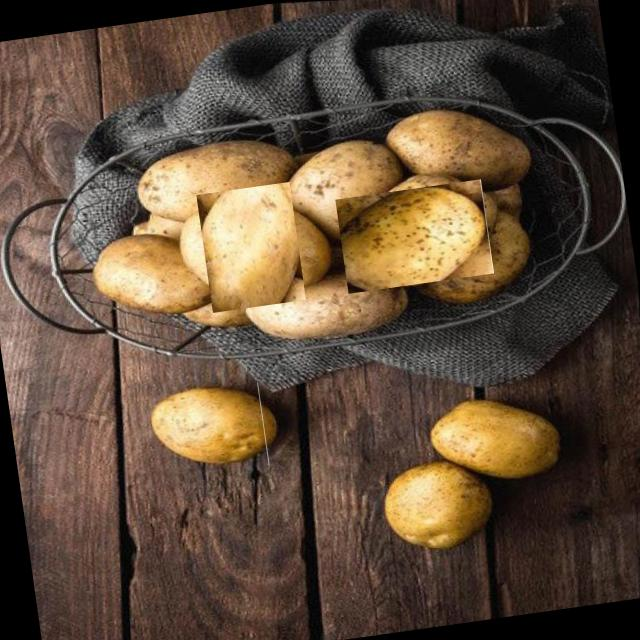potato: (335, 178, 494, 294), (190, 186, 312, 308), (148, 382, 270, 482)
